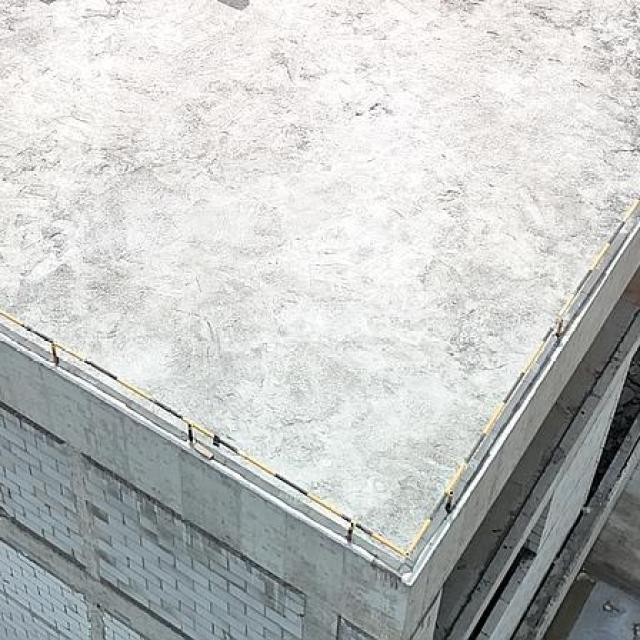edge_guardrail: (0, 194, 640, 559)
